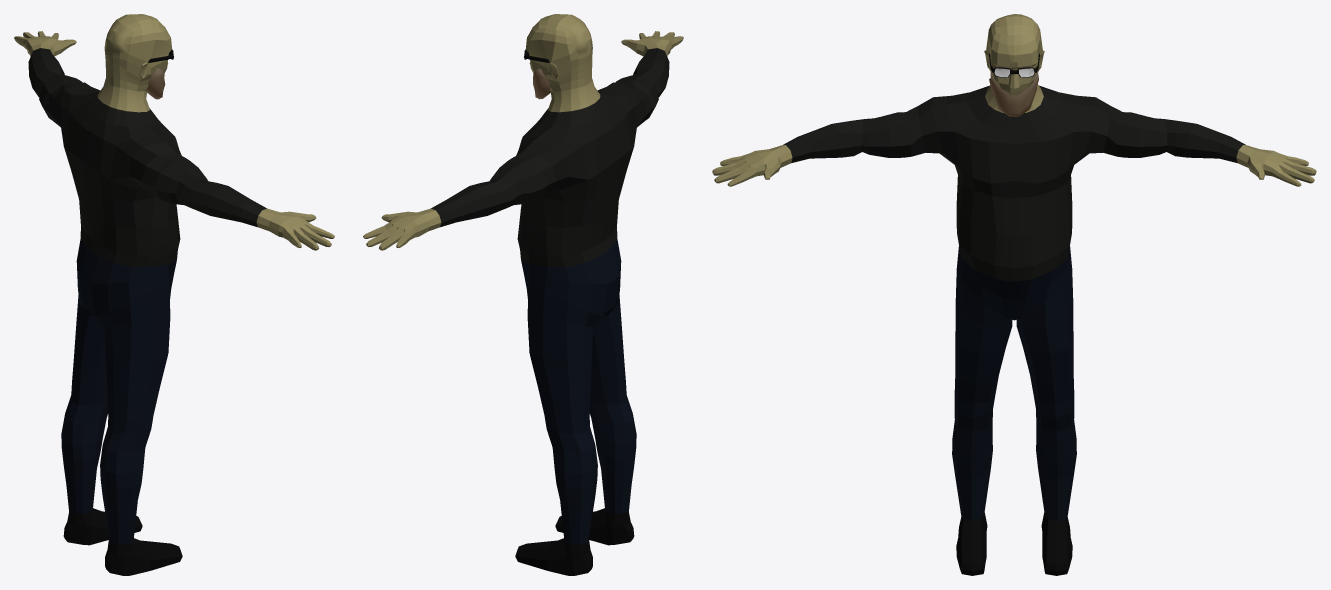
The model's file is SM_Teacher.fbx.
The picture shows the model from 3 angles, left to right: view 1: azimuth 30°, elevation 25°; view 2: azimuth 150°, elevation 25°; view 3: azimuth 270°, elevation 25°; orthographic projection. The views are drawn at different scales.
Parts seen in each view (by area): view 1: BlueJeans.001; view 2: BlueJeans.001; view 3: BlueJeans.001.
Part boxes in pixels (x1,y1,x2,y2): BlueJeans.001: (14,14,334,575); BlueJeans.001: (363,14,683,575); BlueJeans.001: (712,14,1316,575).
Bounding box in the file's own units: 37.32 × 164 × 164.
